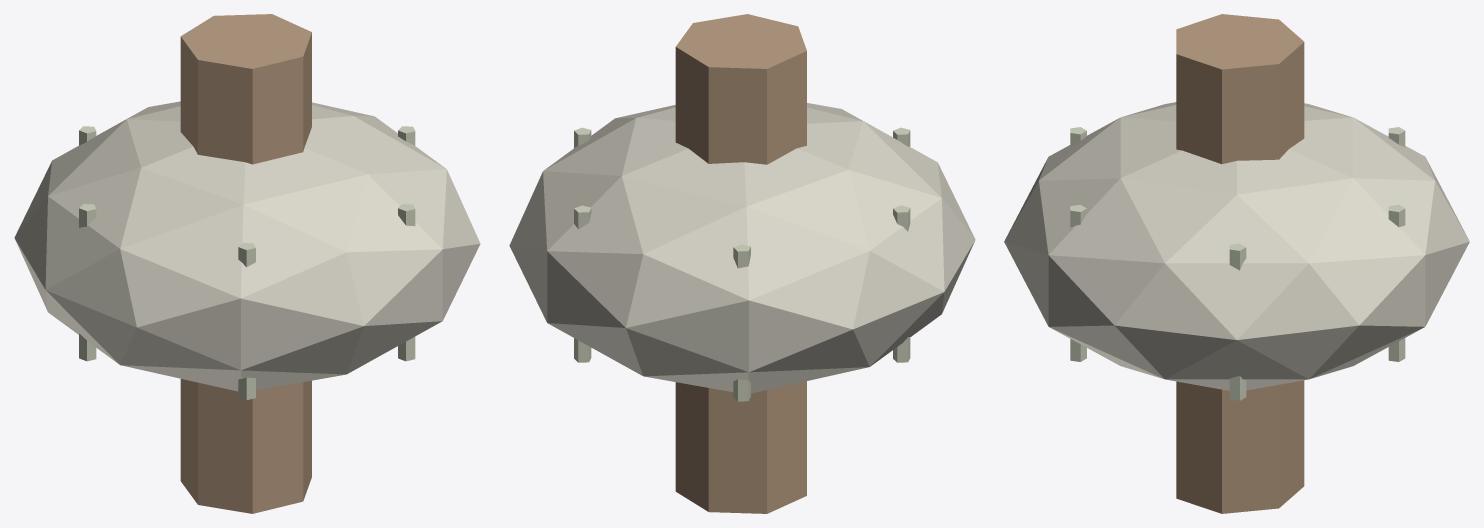
File: silk_spindle.glb
3 renders of one model, left to right at view 1: azimuth 30°, elevation 25°; view 2: azimuth 150°, elevation 25°; view 3: azimuth 270°, elevation 25°, orthographic.
Parts seen in each view (by area): view 1: ThreadSpool, Post, Thread_2, Thread_3, Thread_1; view 2: ThreadSpool, Post, Thread_4, Thread_3, Thread_5; view 3: ThreadSpool, Post, Thread_0, Thread_5, Thread_1.
Part boxes in pixels (x1,y1,x2,y2): ThreadSpool: (14, 101, 480, 391); Post: (180, 14, 311, 513); Thread_2: (238, 243, 255, 400); Thread_3: (79, 204, 96, 361); Thread_1: (398, 204, 415, 361); ThreadSpool: (509, 103, 975, 393); Post: (675, 14, 806, 513); Thread_4: (733, 244, 750, 401); Thread_3: (893, 205, 910, 362); Thread_5: (574, 205, 591, 362); ThreadSpool: (1004, 102, 1469, 390); Post: (1176, 14, 1304, 513); Thread_0: (1229, 243, 1246, 400); Thread_5: (1388, 204, 1405, 361); Thread_1: (1070, 204, 1086, 361).
Bounding box in the file's own units: 0.76 × 0.8 × 0.76.
